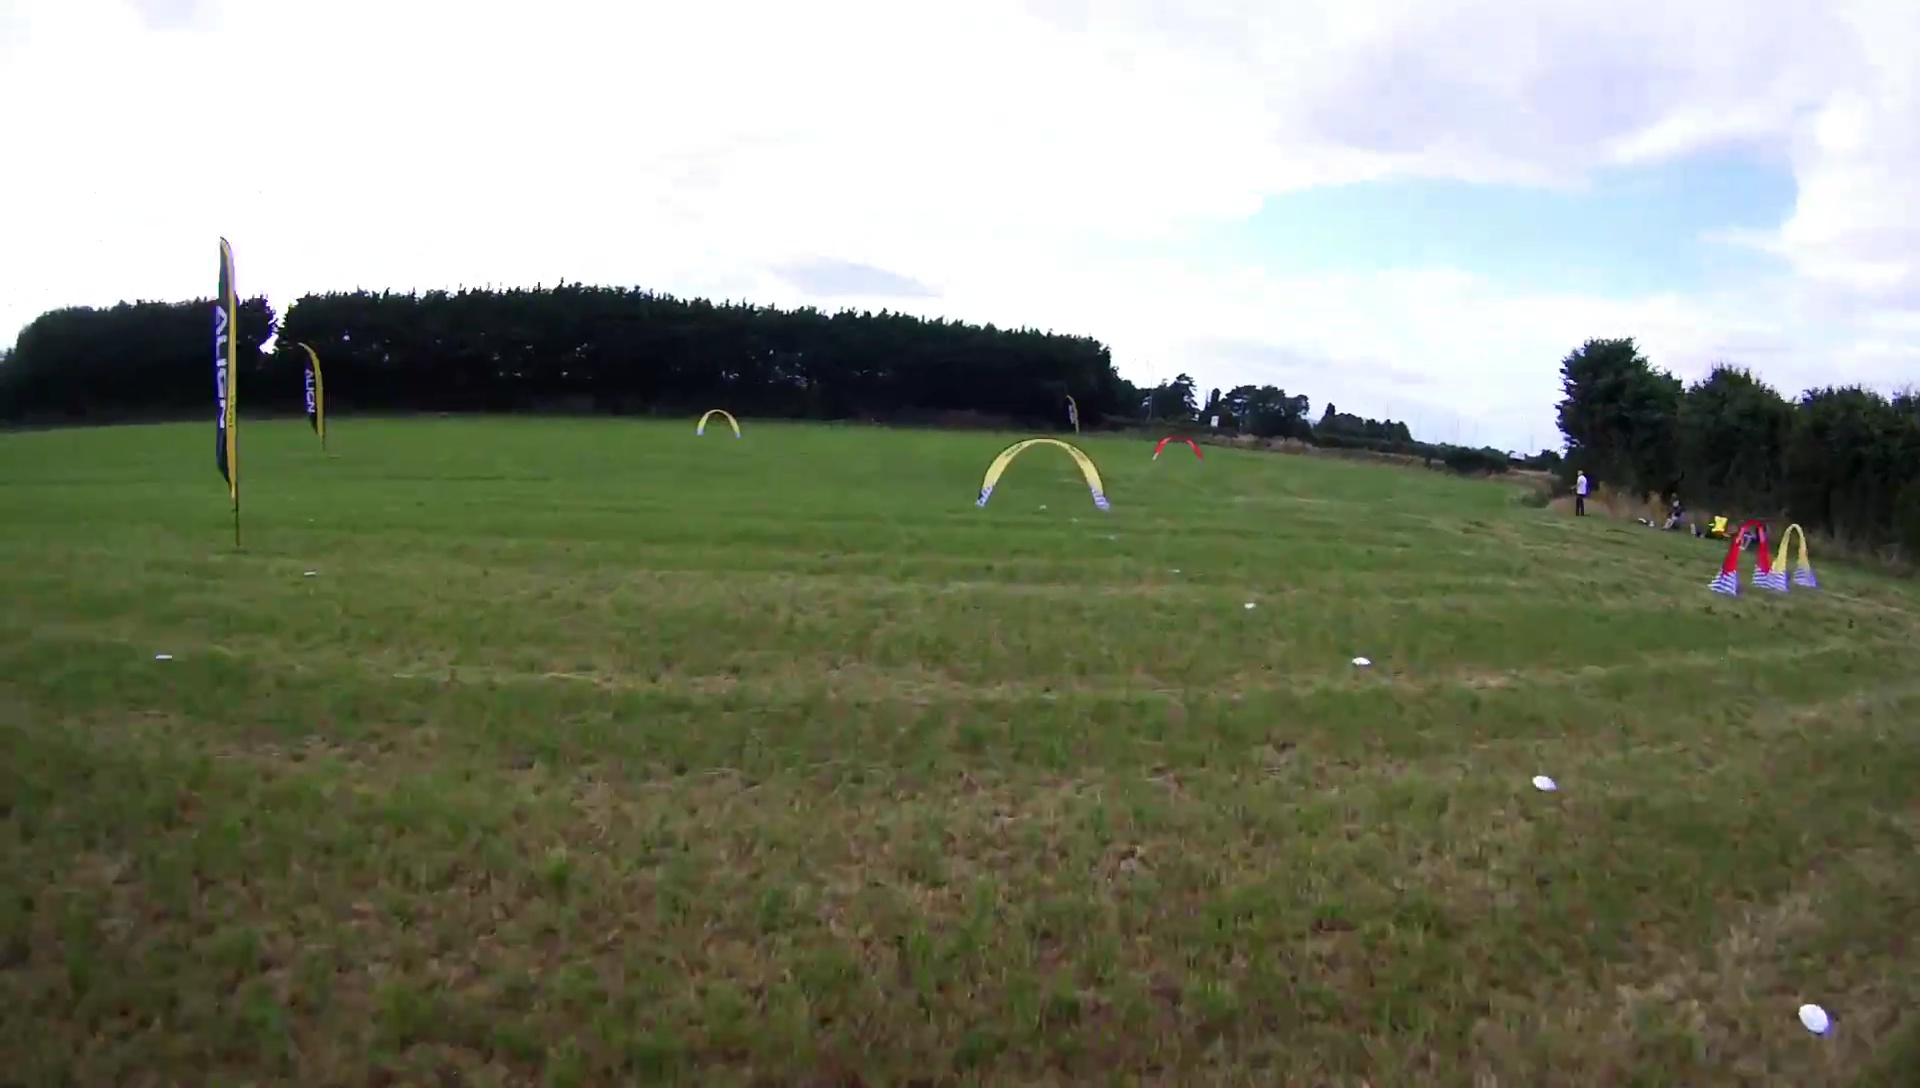gate: (975, 437, 1113, 512), (1710, 516, 1774, 596), (1768, 520, 1816, 593), (1150, 433, 1204, 464), (694, 406, 744, 438)
